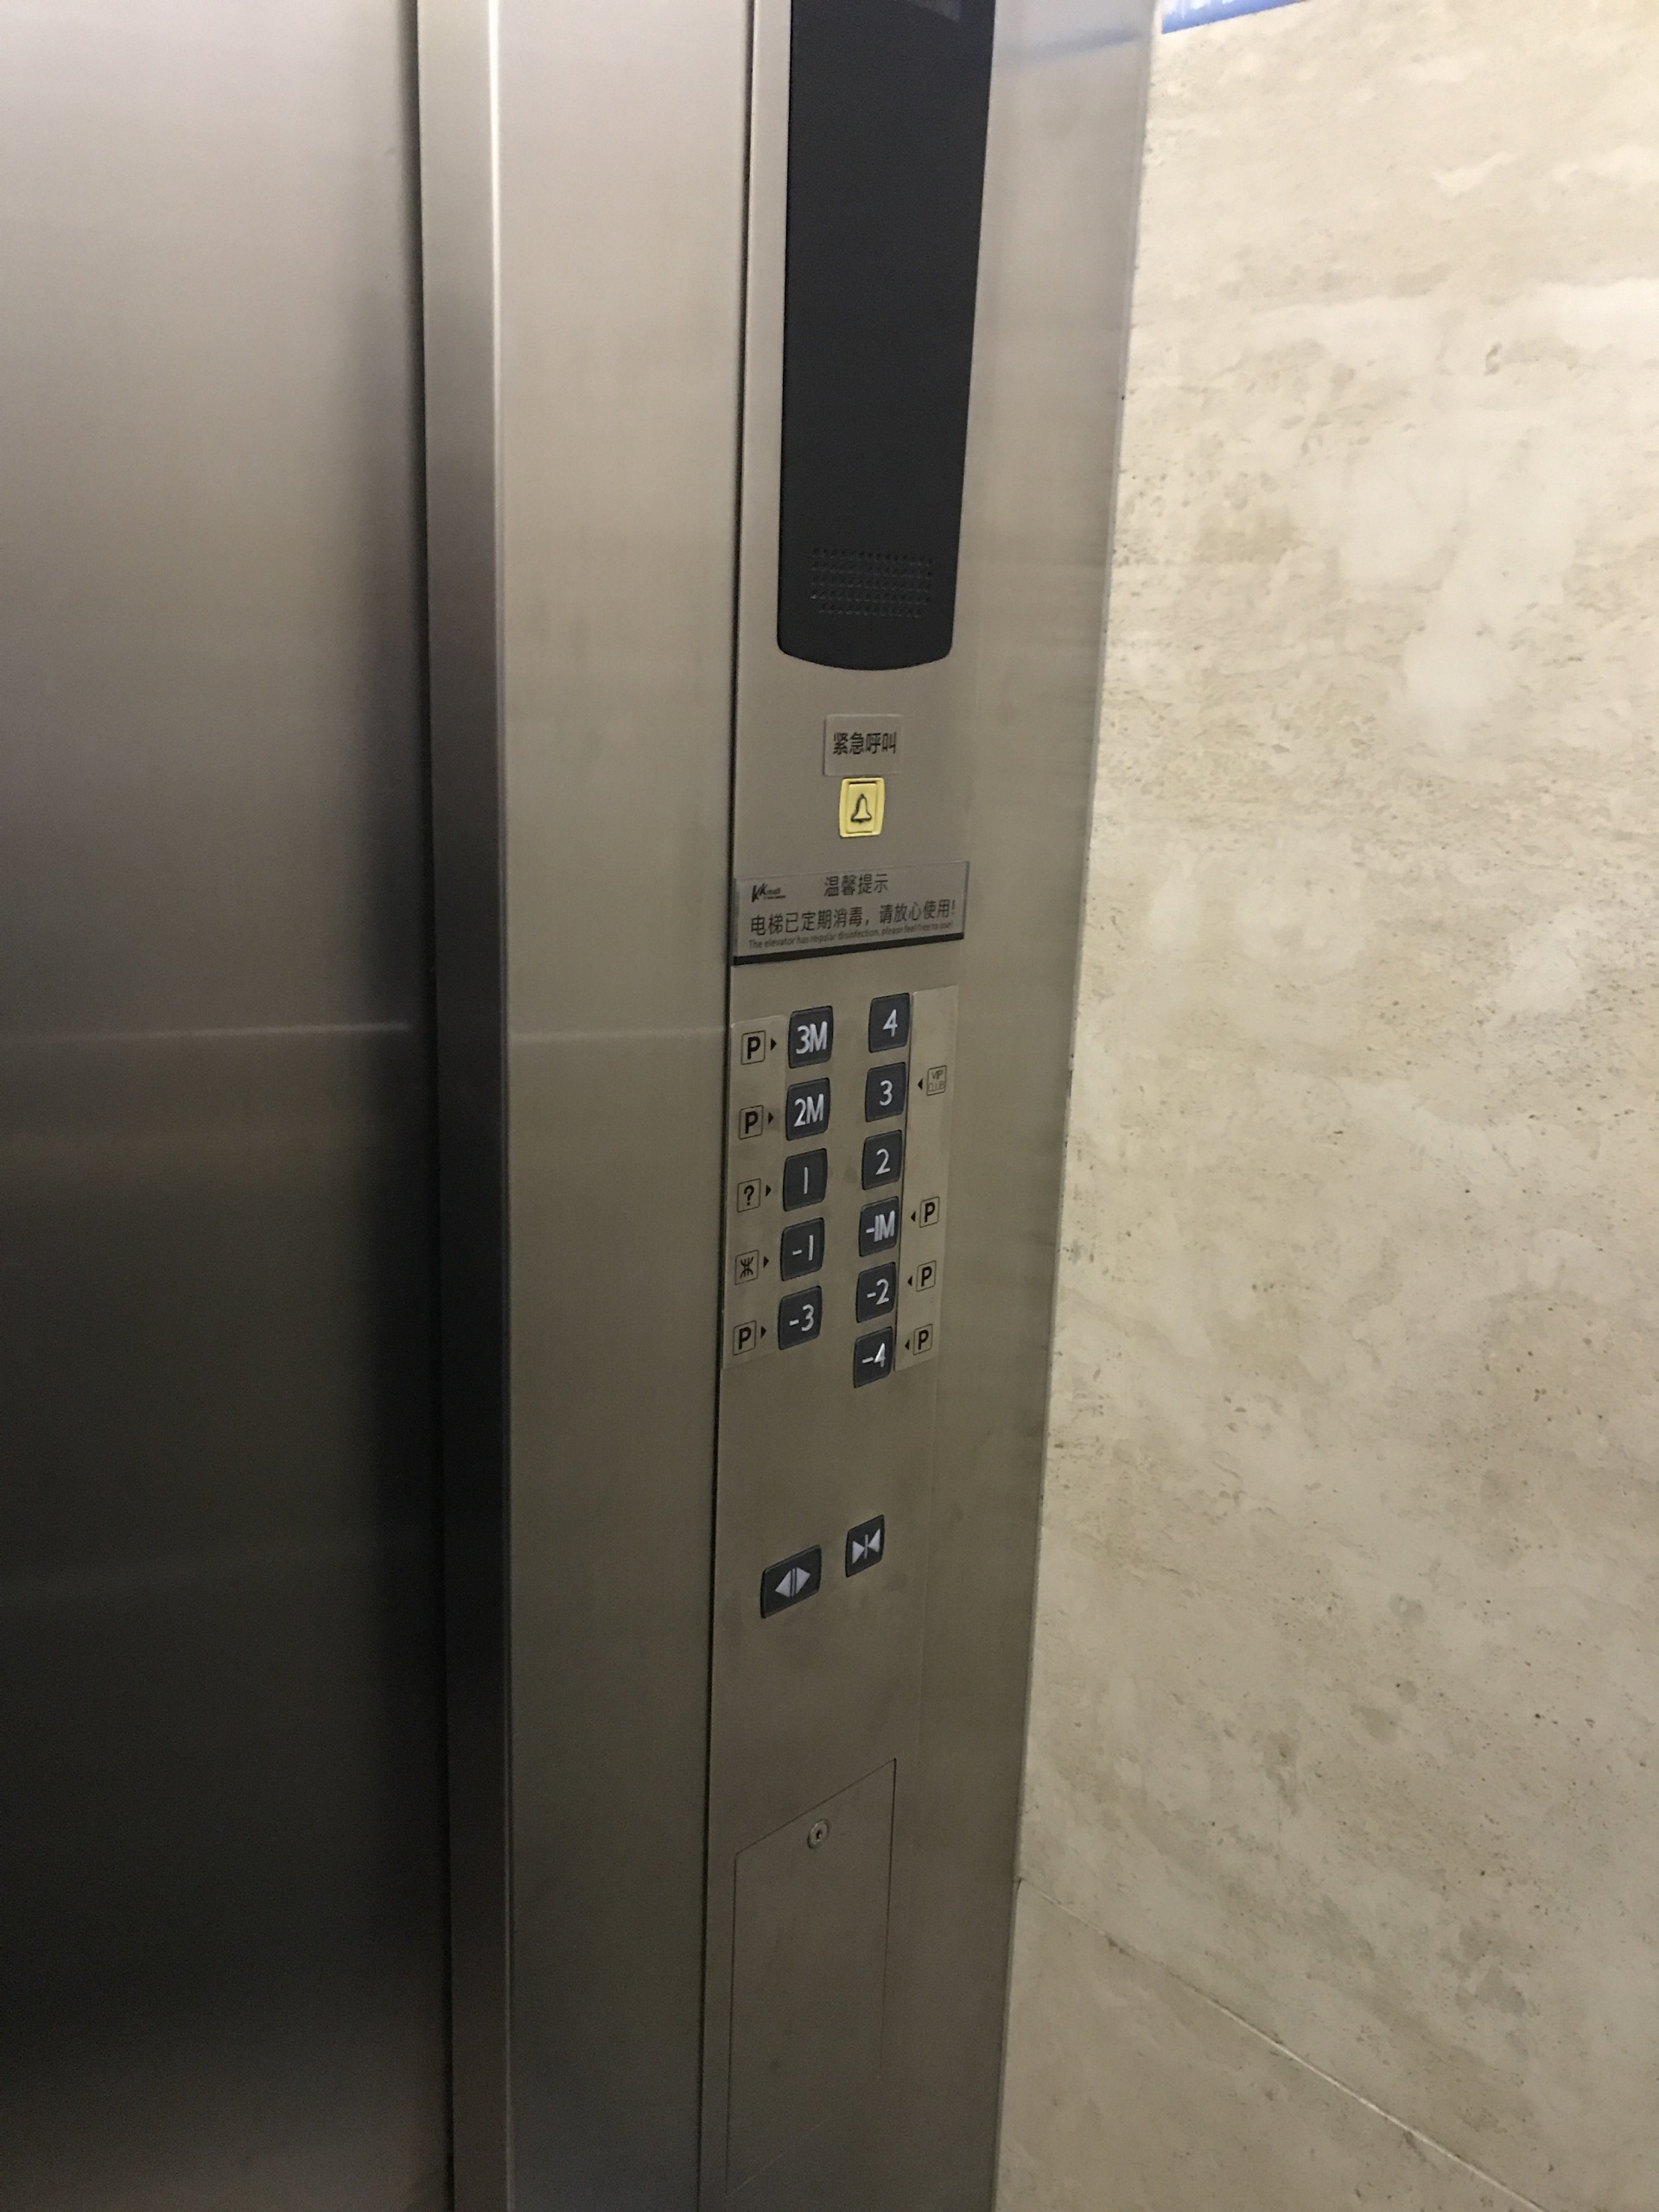-1: (777, 1216, 826, 1282)
-1M: (856, 1195, 901, 1258)
-2: (852, 1259, 899, 1324)
-3: (774, 1284, 824, 1352)
-4: (850, 1324, 896, 1388)
1: (781, 1144, 829, 1212)
2: (859, 1127, 904, 1191)
2M: (782, 1075, 831, 1143)
3: (861, 1059, 908, 1122)
3M: (784, 1001, 835, 1071)
4: (866, 989, 911, 1054)
alarm: (835, 773, 887, 841)
close: (842, 1510, 887, 1578)
open: (758, 1543, 826, 1622)
